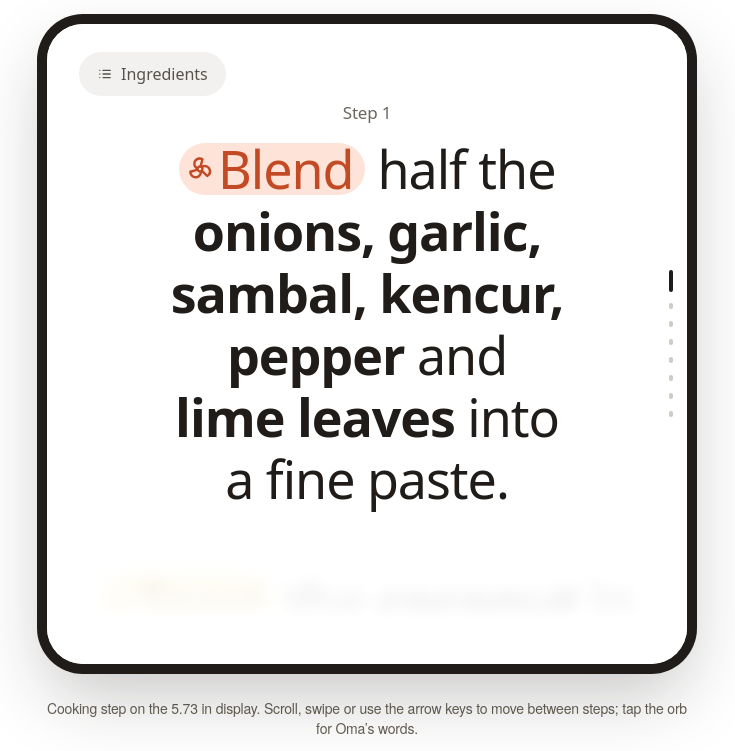
Test: CookingStepBoard › hides Ingredients on steps without any
The image size is (735, 751).
Click the button named "Step 4" at {"x": 659, "y": 342}, box [643,333,675,351]
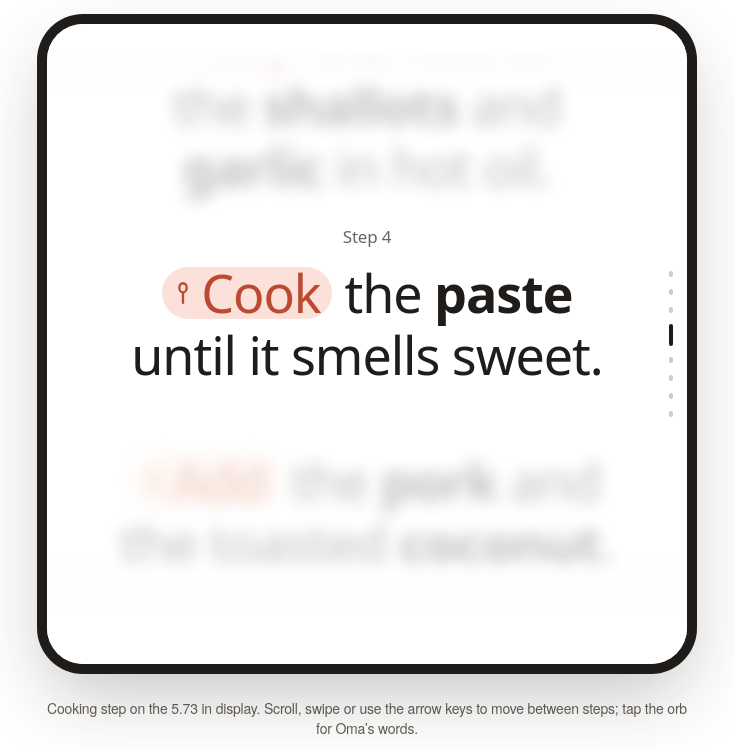
Check: the element with class "cs-step" shows "Cook the paste", box [95,262,639,386]
Check: the button "Ingredients" is gone
